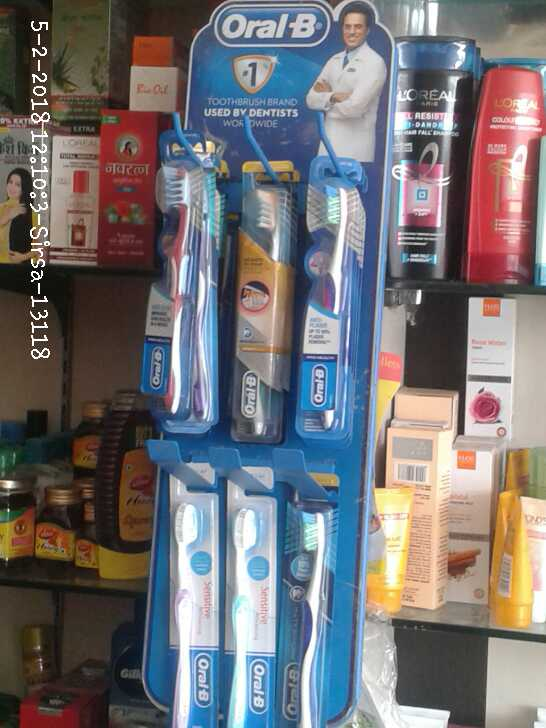oralb: (133, 169, 214, 412), (296, 177, 359, 441), (225, 191, 286, 436), (163, 489, 214, 728), (226, 497, 278, 728), (282, 500, 334, 728)
